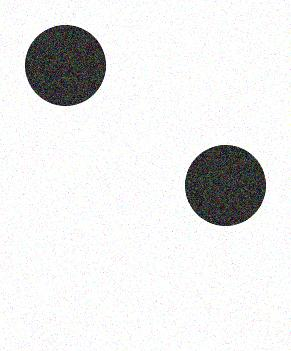E: (18, 16, 271, 335)
